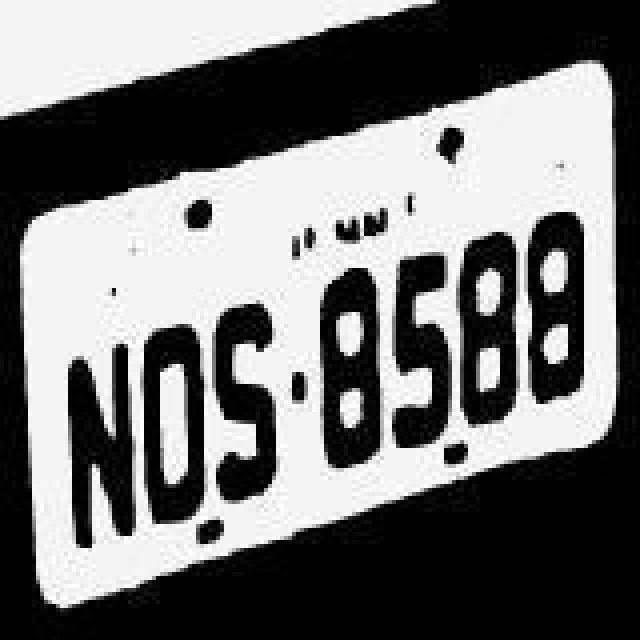5: (384, 244, 456, 452)
8: (522, 172, 598, 428), (310, 256, 386, 472), (452, 224, 524, 432)
N: (62, 304, 138, 560)
O: (138, 298, 206, 526)
S: (212, 286, 284, 506)
